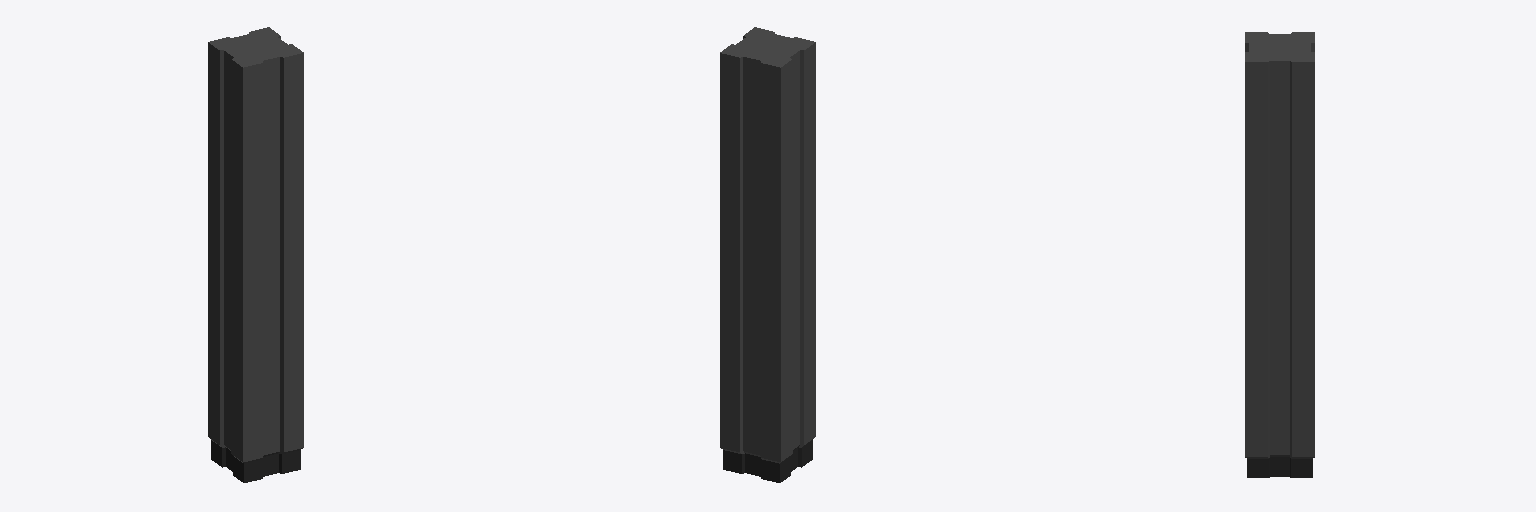
The model's file is Column_2.obj.
The picture shows the model from 3 angles: view 1: azimuth 30°, elevation 25°; view 2: azimuth 150°, elevation 25°; view 3: azimuth 270°, elevation 25°; orthographic projection.
Parts seen in each view (by area): view 1: Column_2_Plane.269; view 2: Column_2_Plane.269; view 3: Column_2_Plane.269.
Part boxes in pixels (bbox=[...]): Column_2_Plane.269: bbox=[208, 27, 303, 482]; Column_2_Plane.269: bbox=[720, 27, 815, 482]; Column_2_Plane.269: bbox=[1245, 32, 1314, 477].
Bounding box in the file's own units: 0.6843 × 4.46 × 0.6843.